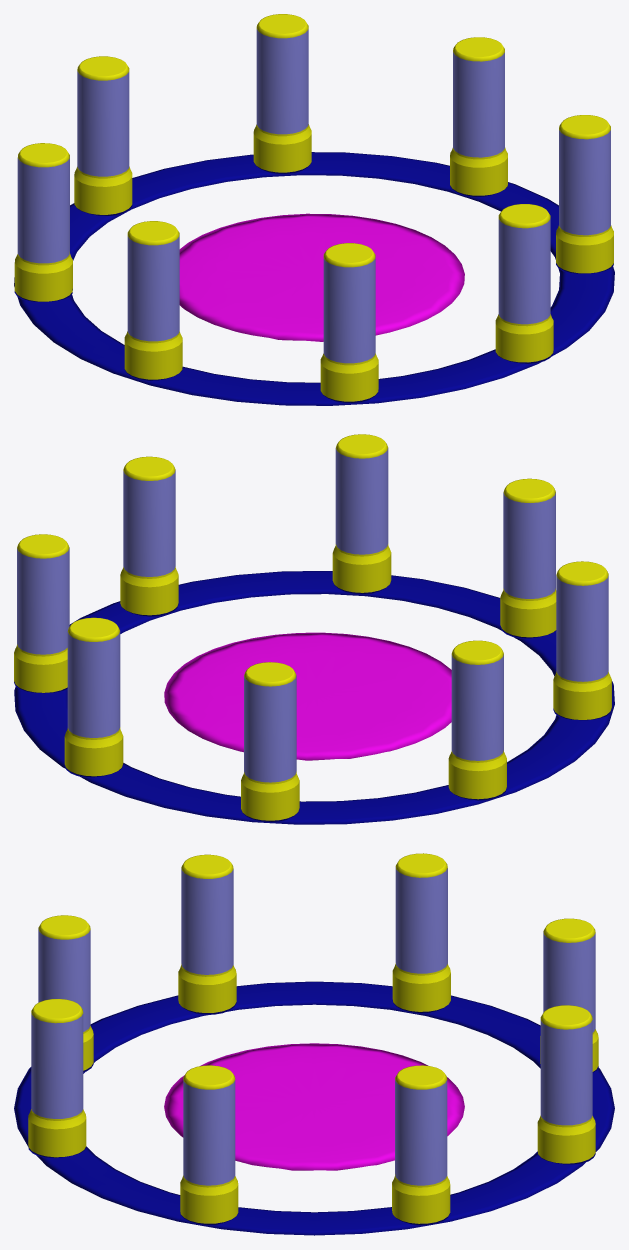
The model's file is obstacle05.fbx.
The picture shows the model from 3 angles, top to bottom: view 1: azimuth 30°, elevation 25°; view 2: azimuth 150°, elevation 25°; view 3: azimuth 270°, elevation 25°; orthographic projection.
Parts seen in each view (by area): view 1: obstacle05, obstacle0501; view 2: obstacle05, obstacle0501; view 3: obstacle05, obstacle0501.
Part boxes in pixels (x1=…): obstacle05: x1=14, y1=14, x2=613, y2=403; obstacle0501: x1=14, y1=152, x2=614, y2=405; obstacle05: x1=14, y1=434, x2=611, y2=822; obstacle0501: x1=14, y1=571, x2=614, y2=824; obstacle05: x1=28, y1=853, x2=598, y2=1225; obstacle0501: x1=14, y1=981, x2=614, y2=1235.
Size of the model in its own units: 938 by 249 by 938.
